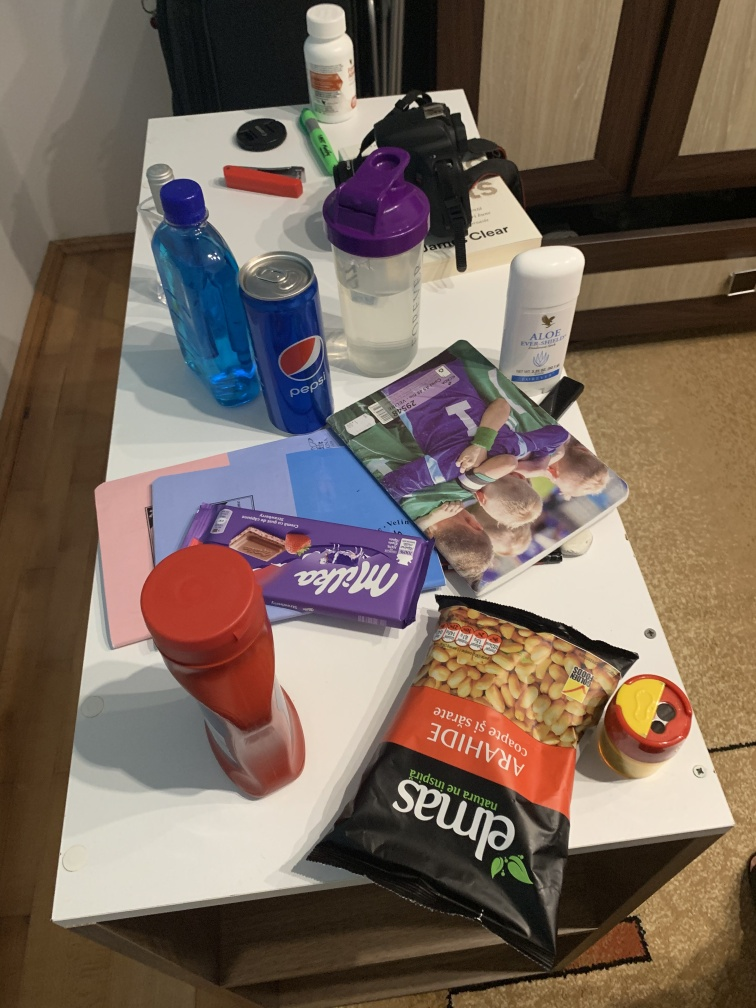ketchup: (130, 553, 322, 802)
milka: (172, 489, 434, 635)
peanuts: (338, 585, 656, 982)
pepsi: (229, 247, 346, 440)
